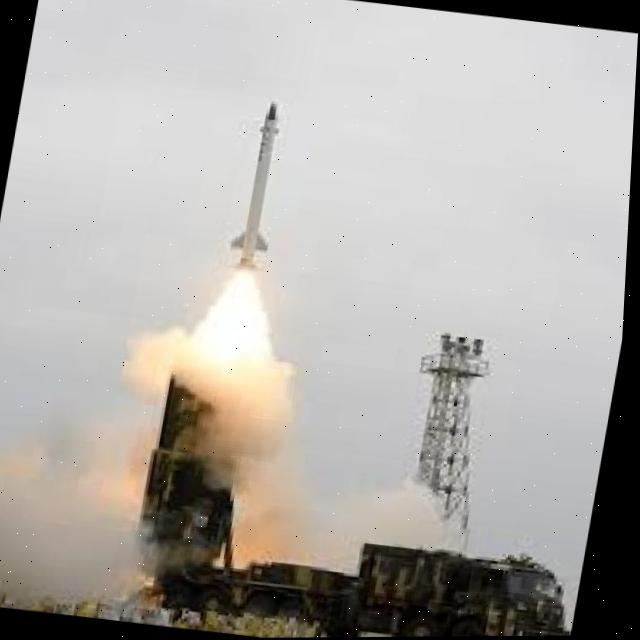missile: (229, 98, 309, 270)
